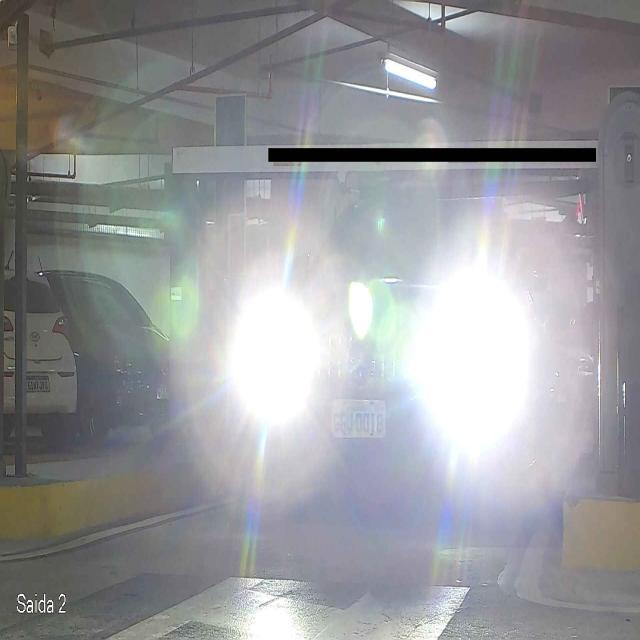old_plate: (325, 397, 388, 440)
